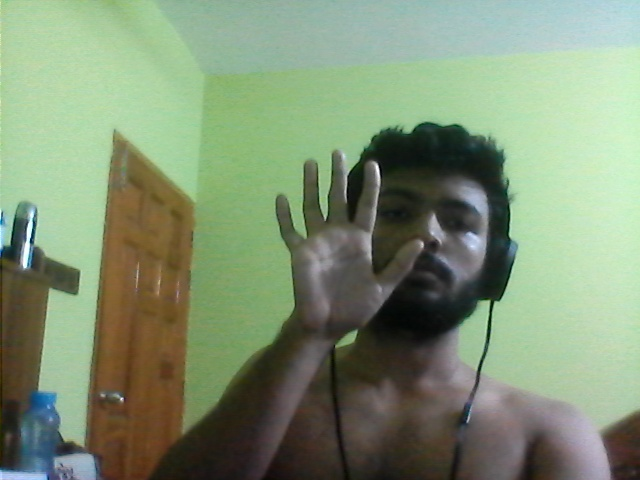Hello: (272, 148, 425, 341)
